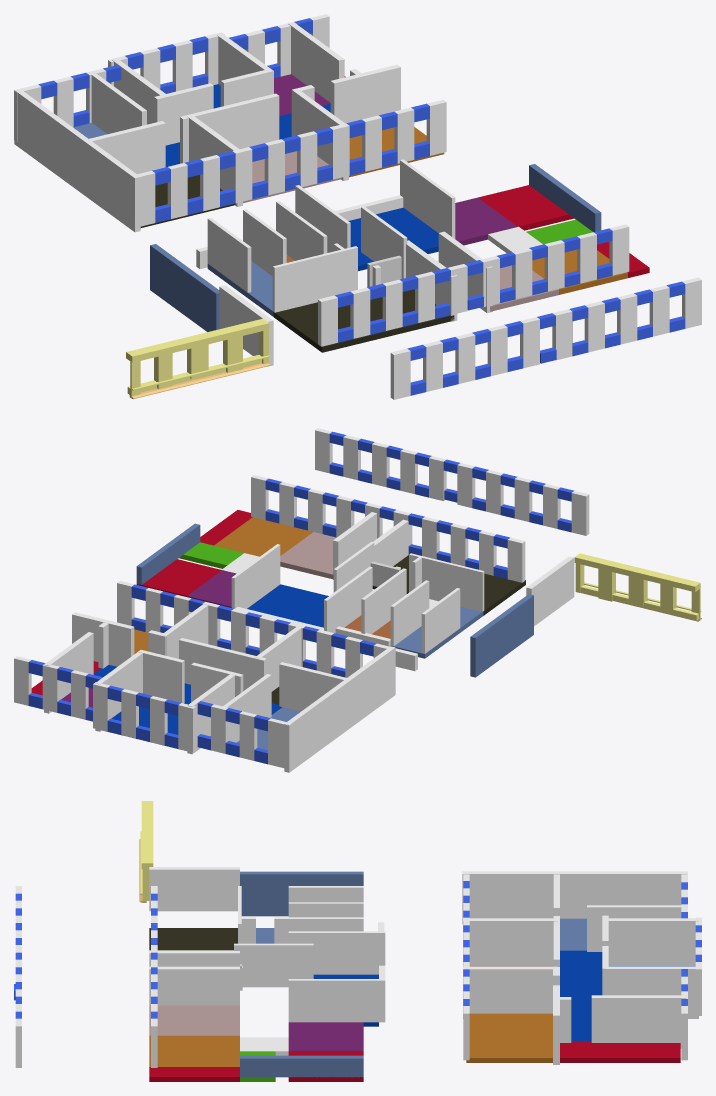
Rendered from skolni101.gltf.
3 views of the same model, one above another, from view 1: azimuth 30°, elevation 25°; view 2: azimuth 150°, elevation 25°; view 3: azimuth 270°, elevation 25° (orthographic). The views are drawn at different scales.
Parts seen in each view (by area): view 1: Krychle.024, PodPoadlahou.011, PodPoadlahou.098, Krychle.030, PodPoadlahou.001, Krychle.034, Šatna, PodPoadlahou.134, Krychle.029, Krychle.035, Sklad, Krychle.028 (+64 smaller); view 2: Krychle.024, PodPoadlahou.011, PodPoadlahou.001, PodPoadlahou.098, Krychle.030, T1, Krychle.029, T6, PodPoadlahou.134, PodPoadlahou.003, Krychle.034, Krychle.009 (+56 smaller); view 3: Krychle.024, Krychle.035, PodPoadlahou.134, Krychle.012, T8.002, Krychle.032, Krychle.033, PodPoadlahou.003, PodPoadlahou.133, PodPoadlahou.099, PodPoadlahou.001, PodPoadlahou.129 (+20 smaller).
Part boxes in pixels (bbox=[...]): Krychle.024: bbox=[14, 89, 140, 232]; PodPoadlahou.011: bbox=[126, 318, 270, 398]; PodPoadlahou.098: bbox=[272, 246, 357, 312]; Krychle.030: bbox=[180, 93, 279, 163]; PodPoadlahou.001: bbox=[150, 244, 219, 331]; Krychle.034: bbox=[330, 64, 400, 123]; Šatna: bbox=[273, 289, 454, 352]; PodPoadlahou.134: bbox=[400, 159, 455, 238]; Krychle.029: bbox=[89, 121, 165, 174]; Krychle.035: bbox=[288, 22, 344, 102]; Sklad: bbox=[478, 185, 573, 230]; Krychle.028: bbox=[91, 73, 146, 133]; Krychle.024: bbox=[284, 646, 395, 772]; PodPoadlahou.011: bbox=[574, 553, 701, 621]; PodPoadlahou.001: bbox=[470, 594, 533, 677]; PodPoadlahou.098: bbox=[409, 553, 484, 611]; Krychle.030: bbox=[179, 638, 266, 690]; T1: bbox=[214, 517, 312, 556]; Krychle.029: bbox=[279, 662, 346, 711]; T6: bbox=[247, 584, 328, 627]; PodPoadlahou.134: bbox=[231, 544, 280, 608]; PodPoadlahou.003: bbox=[526, 556, 574, 626]; Krychle.034: bbox=[72, 612, 134, 666]; Krychle.009: bbox=[138, 650, 184, 703]; Krychle.024: bbox=[462, 871, 687, 924]; Krychle.035: bbox=[591, 995, 686, 1048]; PodPoadlahou.134: bbox=[288, 979, 385, 1022]; Krychle.012: bbox=[608, 918, 698, 965]; T8.002: bbox=[466, 1013, 552, 1062]; Krychle.032: bbox=[463, 918, 557, 966]; Krychle.033: bbox=[463, 966, 557, 1018]; PodPoadlahou.003: bbox=[149, 867, 239, 911]; PodPoadlahou.133: bbox=[288, 931, 385, 974]; PodPoadlahou.099: bbox=[149, 966, 239, 1005]; PodPoadlahou.001: bbox=[240, 871, 363, 916]; PodPoadlahou.129: bbox=[234, 943, 313, 987].
Size of the model in its own units: 877 by 103 by 1073.
